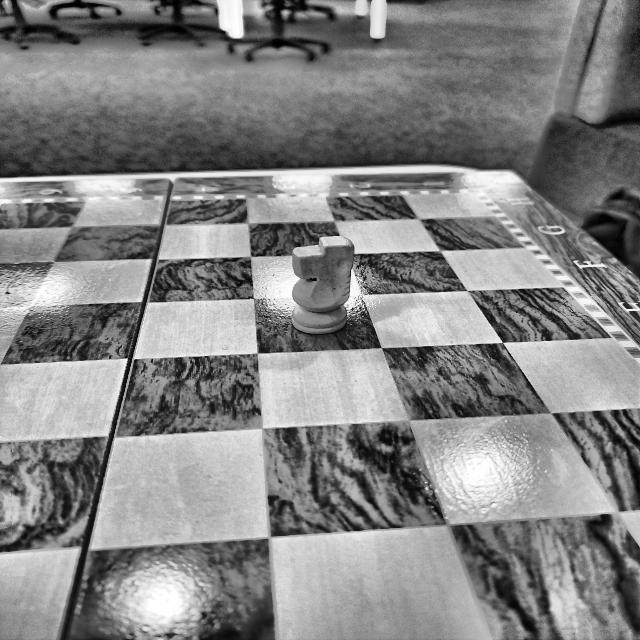white-knight: (290, 235, 356, 335)
